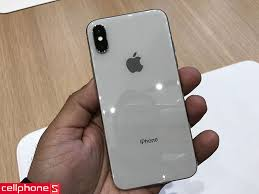iphone: (82, 5, 200, 190)
iphone10: (82, 5, 200, 190)
